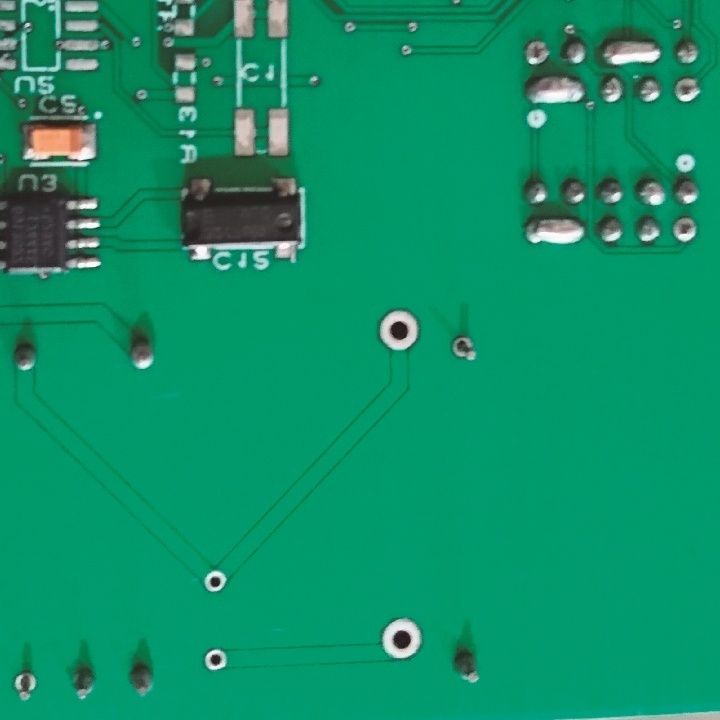F: (376, 306, 421, 355), (378, 615, 423, 662), (12, 666, 39, 703), (521, 38, 554, 68), (449, 331, 476, 365), (670, 214, 700, 244), (673, 76, 703, 105), (201, 569, 228, 598), (203, 645, 227, 674)
P: (523, 75, 592, 108), (524, 214, 588, 249), (601, 34, 664, 68)
